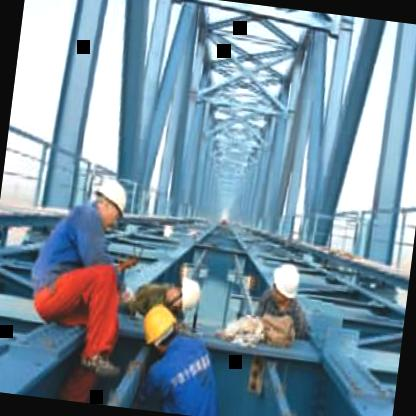helmet: (138, 298, 182, 354), (87, 174, 130, 230), (162, 276, 207, 318), (268, 259, 303, 309)
